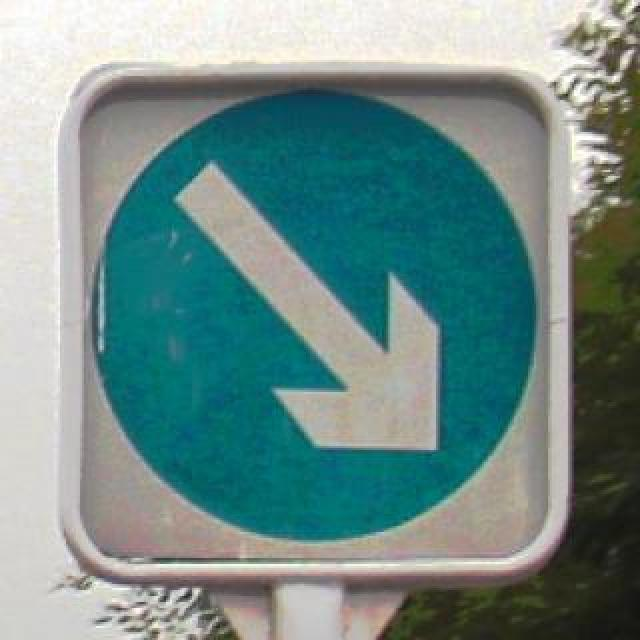keep right: (90, 90, 540, 542)
